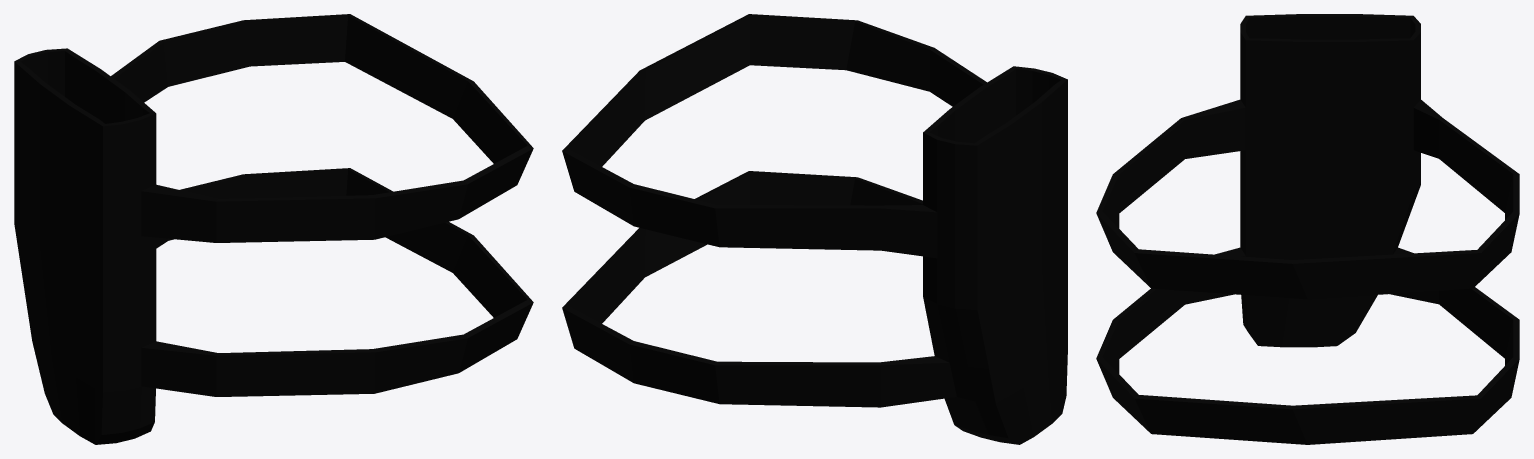
Rendered from Pistol Holster01.fbx.
3 views of the same model, side by side, from view 1: azimuth 30°, elevation 25°; view 2: azimuth 150°, elevation 25°; view 3: azimuth 270°, elevation 25° (orthographic). The views are drawn at different scales.
Visible parts, largest first — view 1: Gun Holder.001; view 2: Gun Holder.001; view 3: Gun Holder.001.
Part boxes in pixels (<box>): Gun Holder.001: <box>14,14,533,444</box>; Gun Holder.001: <box>562,14,1067,444</box>; Gun Holder.001: <box>1096,14,1519,444</box>.
Size of the model in its own units: 0.2144 by 0.1676 by 0.2085.
